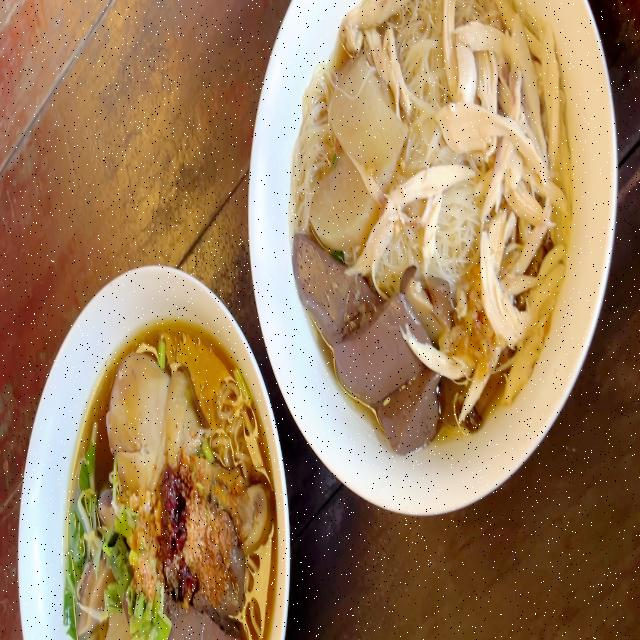boiled_chicken_blood_jelly: (340, 303, 420, 396), (293, 241, 345, 342), (388, 375, 432, 449), (164, 598, 230, 640), (222, 546, 247, 608)
chicken_drumstick: (111, 351, 265, 538)
chicken_shredded: (439, 0, 566, 372), (367, 22, 418, 117), (342, 4, 397, 56)
daikon_radish: (324, 55, 406, 204), (311, 153, 369, 246), (97, 600, 133, 640)
noodle: (292, 3, 578, 435), (63, 341, 272, 640)
